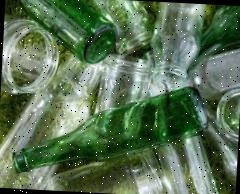glass: (0, 0, 215, 184)
